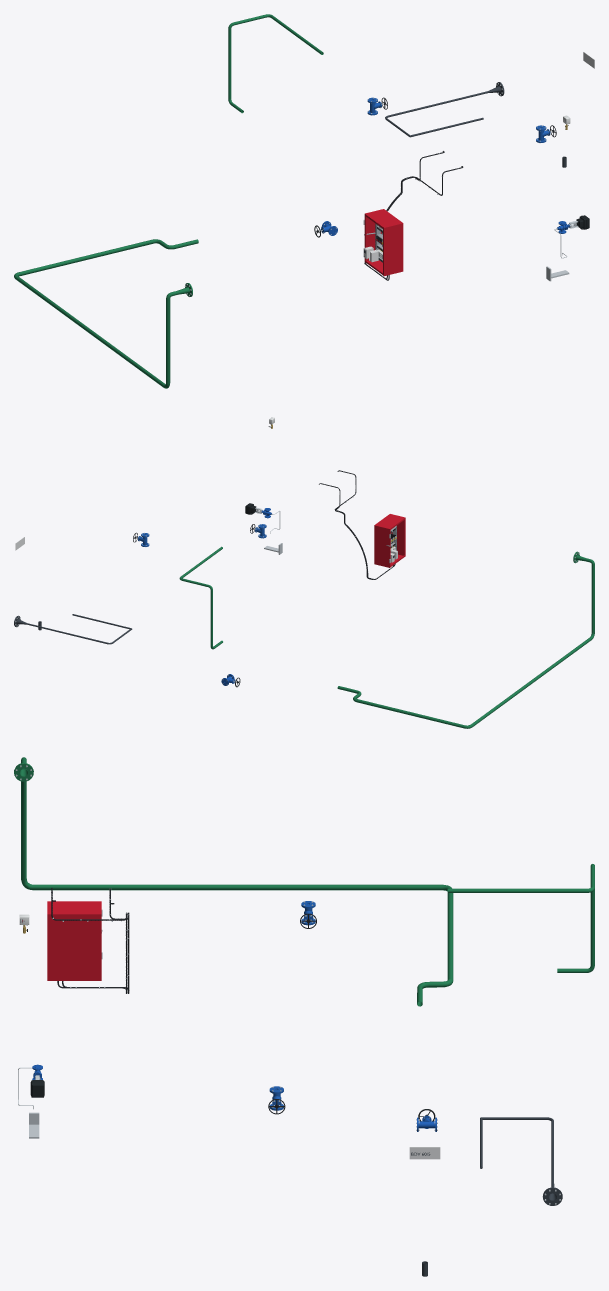
File: s4000-6-DBeadB3T.glb
The picture shows the model from 3 angles, top to bottom: view 1: azimuth 30°, elevation 25°; view 2: azimuth 150°, elevation 25°; view 3: azimuth 270°, elevation 25°; orthographic projection. The views are drawn at different scales.
Visible parts, largest first — view 1: deaerator_feed / green, control_cabinet / control_cabinet_0.npz, from_economizer / green; view 2: deaerator_feed / green, control_cabinet / control_cabinet_0.npz, from_economizer / green; view 3: deaerator_feed / green, control_cabinet / control_cabinet_0.npz, from_economizer / green, tds_to_fv / dark.
Part boxes in pixels (x1,y1,x2,y2): deaerator_feed / green: [14, 239, 198, 388]; control_cabinet / control_cabinet_0.npz: [363, 209, 403, 276]; from_economizer / green: [228, 14, 323, 113]; deaerator_feed / green: [337, 551, 594, 728]; control_cabinet / control_cabinet_0.npz: [374, 514, 405, 567]; from_economizer / green: [179, 546, 222, 649]; deaerator_feed / green: [14, 757, 453, 1006]; control_cabinet / control_cabinet_0.npz: [47, 901, 102, 980]; from_economizer / green: [447, 864, 594, 972]; tds_to_fv / dark: [481, 1117, 562, 1205].
Size of the model in its own units: 8.87 by 3 by 5.69.
